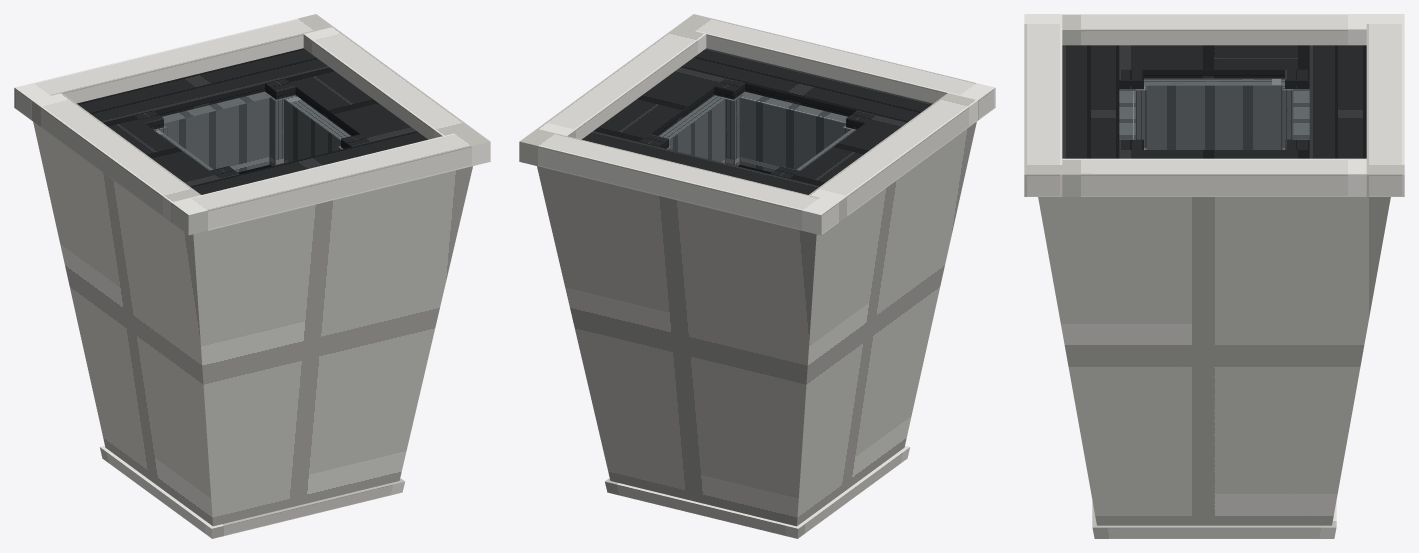
Rendered from trash_bin.obj.
3 views of the same model, side by side, from view 1: azimuth 30°, elevation 25°; view 2: azimuth 150°, elevation 25°; view 3: azimuth 270°, elevation 25° (orthographic). The views are drawn at different scales.
Parts seen in each view (by area): view 1: tiled_body, back_rim, front_rim, left_rim, top_north, inner_north, right_rim, top_east, lower_plinth, inner_east, top_south, top_west (+1 smaller); view 2: tiled_body, front_rim, back_rim, left_rim, top_south, inner_south, right_rim, top_east, lower_plinth, inner_east, top_north, top_west (+1 smaller); view 3: tiled_body, right_rim, inner_west, left_rim, front_rim, back_rim, top_north, top_south, top_west, lower_plinth, top_east, inner_north (+5 smaller).
Boxes of the visible parts, box(x1,y1,x2,y2) form: tiled_body: box(33, 122, 472, 526); back_rim: box(171, 129, 490, 235); front_rim: box(14, 14, 333, 120); left_rim: box(32, 93, 200, 222); top_north: box(77, 48, 328, 122); inner_north: box(162, 91, 271, 172); right_rim: box(303, 27, 472, 139); top_east: box(285, 67, 416, 141); lower_plinth: box(100, 446, 404, 538); inner_east: box(284, 95, 350, 163); top_south: box(190, 131, 427, 194); top_west: box(103, 115, 219, 186); tiled_body: box(537, 122, 976, 526); front_rim: box(519, 129, 838, 235); back_rim: box(676, 14, 995, 120); left_rim: box(809, 93, 977, 222); top_south: box(681, 48, 932, 122); inner_south: box(739, 91, 847, 172); right_rim: box(537, 27, 706, 139); top_east: box(593, 67, 724, 141); lower_plinth: box(605, 446, 909, 538); inner_east: box(659, 95, 725, 163); top_north: box(582, 131, 819, 194); top_west: box(790, 115, 906, 186); tiled_body: box(1038, 197, 1390, 525); right_rim: box(1062, 158, 1366, 196); inner_west: box(1144, 78, 1284, 149); left_rim: box(1062, 14, 1366, 45); front_rim: box(1366, 14, 1404, 196); back_rim: box(1024, 14, 1062, 196); top_north: box(1309, 45, 1366, 158); top_south: box(1062, 45, 1119, 158); top_west: box(1119, 45, 1309, 78); lower_plinth: box(1092, 501, 1336, 538); top_east: box(1119, 150, 1309, 158); inner_north: box(1293, 89, 1309, 139).
Bounding box in the file's own units: 0.875 × 1 × 0.875.
